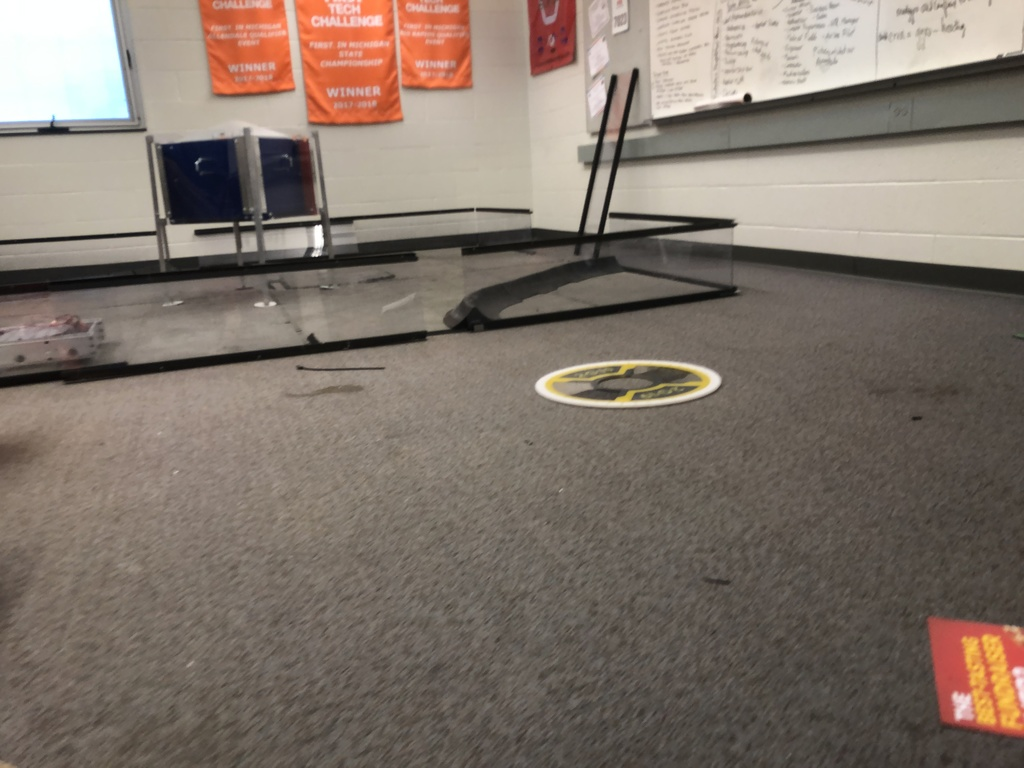hatch_panel: (524, 350, 736, 415)
